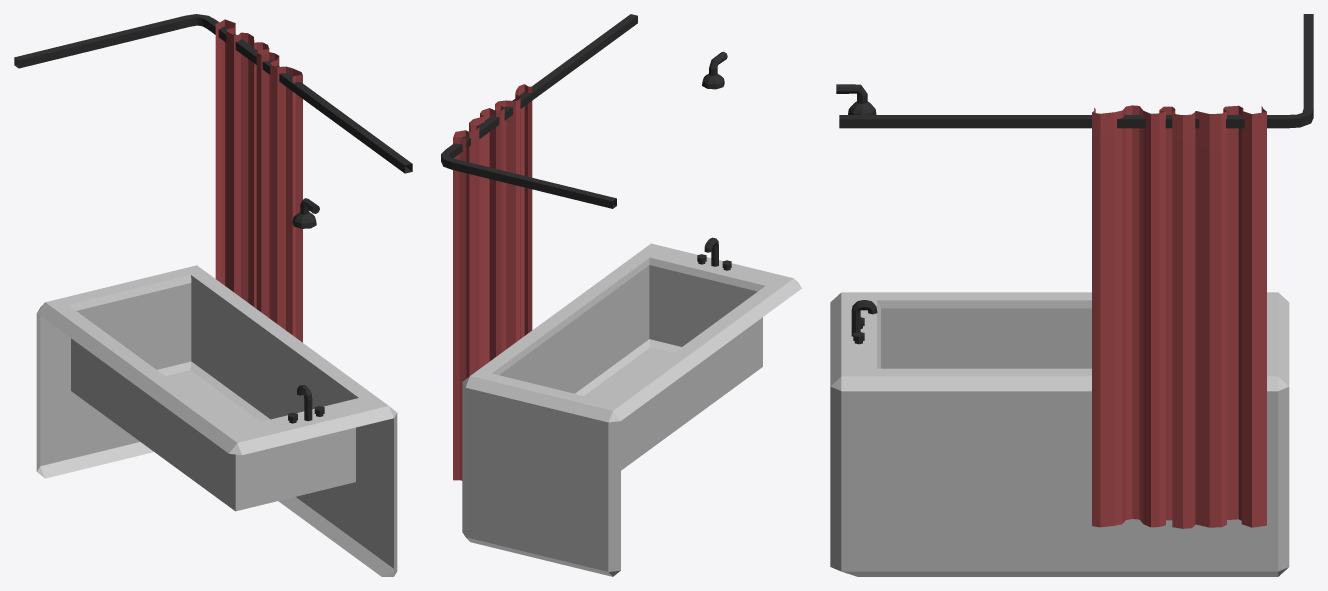
Rendered from bathtub.fbx.
3 views of the same model, side by side, from view 1: azimuth 30°, elevation 25°; view 2: azimuth 150°, elevation 25°; view 3: azimuth 270°, elevation 25° (orthographic). The views are drawn at different scales.
Visible parts, largest first — view 1: bathtub; view 2: bathtub; view 3: bathtub.
Boxes of the visible parts, x1,y1,x2,y2 form: bathtub: (14,14,412,576); bathtub: (441,14,801,576); bathtub: (830,14,1313,576).
Size of the model in its own units: 1.16 by 2.38 by 2.18.
